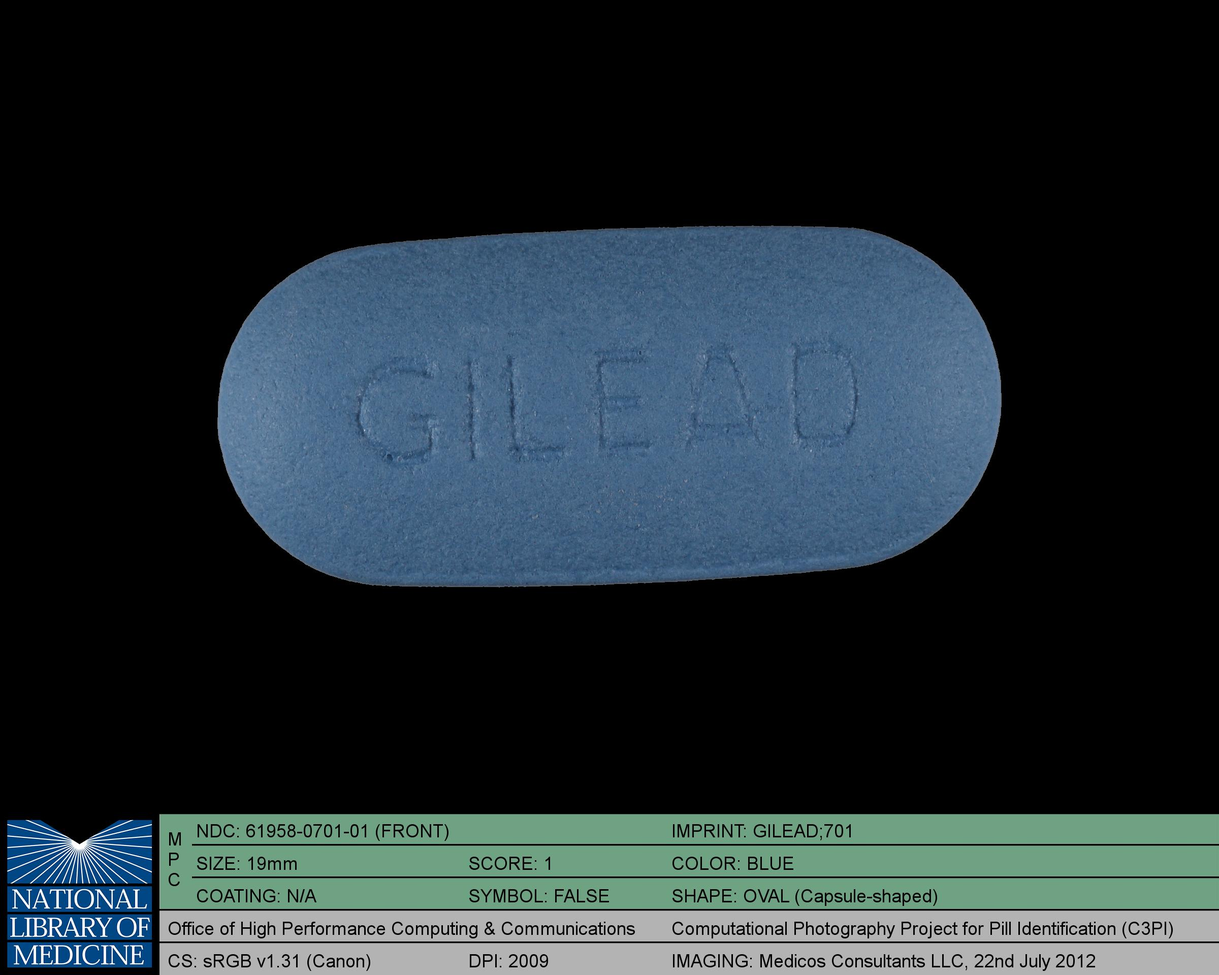Pill: (208, 213, 1011, 596)
